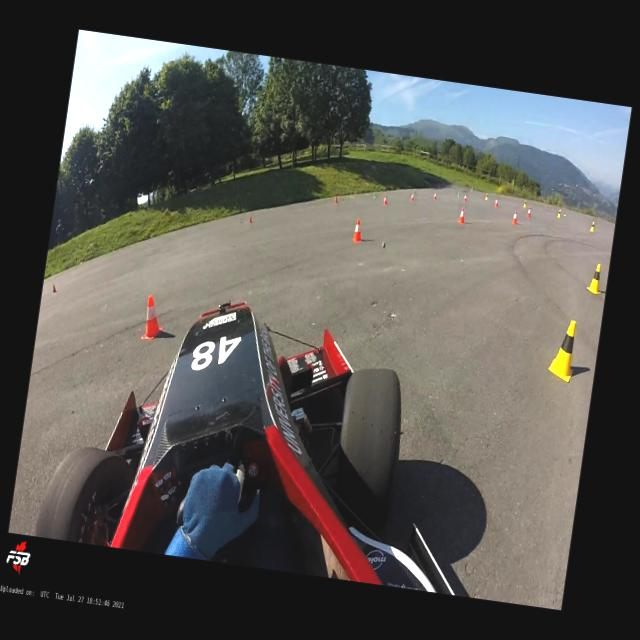orange_cone: (141, 296, 168, 342), (352, 218, 364, 244), (458, 208, 466, 225), (512, 210, 518, 224), (528, 207, 532, 218), (463, 194, 468, 202), (384, 195, 388, 205), (494, 198, 498, 208), (434, 192, 436, 200), (412, 194, 414, 201)
unknown_cone: (52, 284, 58, 293), (373, 192, 378, 200), (334, 195, 338, 203), (250, 217, 252, 223)
yellow_cone: (546, 317, 581, 383), (586, 262, 606, 296), (589, 221, 595, 233), (557, 208, 561, 218), (523, 200, 527, 208), (485, 192, 489, 200)
